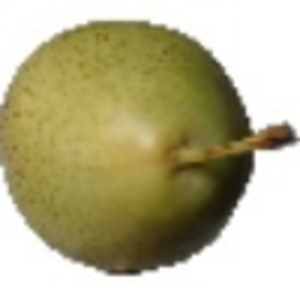pera: (1, 1, 300, 278)
